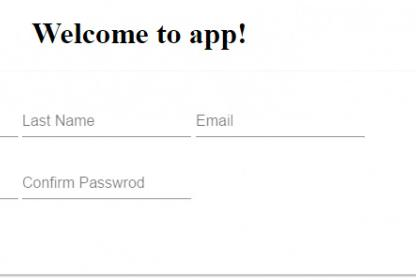field_line: (195, 111, 368, 139), (20, 111, 192, 139), (22, 175, 193, 201)
